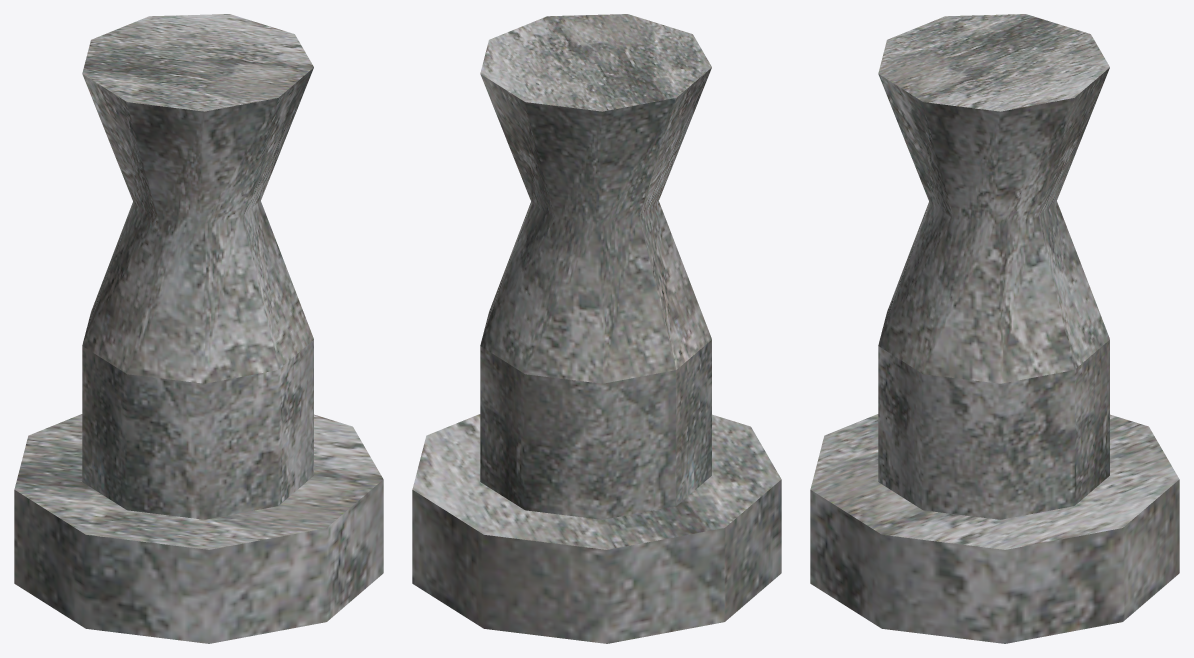
The model's file is celt_sb_mill.dae.
3 views of the same model, side by side, from view 1: azimuth 30°, elevation 25°; view 2: azimuth 150°, elevation 25°; view 3: azimuth 270°, elevation 25° (orthographic).
Parts seen in each view (by area): view 1: special_mill-Pivot; view 2: special_mill-Pivot; view 3: special_mill-Pivot.
Boxes of the visible parts, <box> form: special_mill-Pivot: <box>14,14,383,643</box>; special_mill-Pivot: <box>412,14,781,643</box>; special_mill-Pivot: <box>810,14,1179,643</box>.
Bounding box in the file's own units: 2.24 × 2.25 × 3.38.
